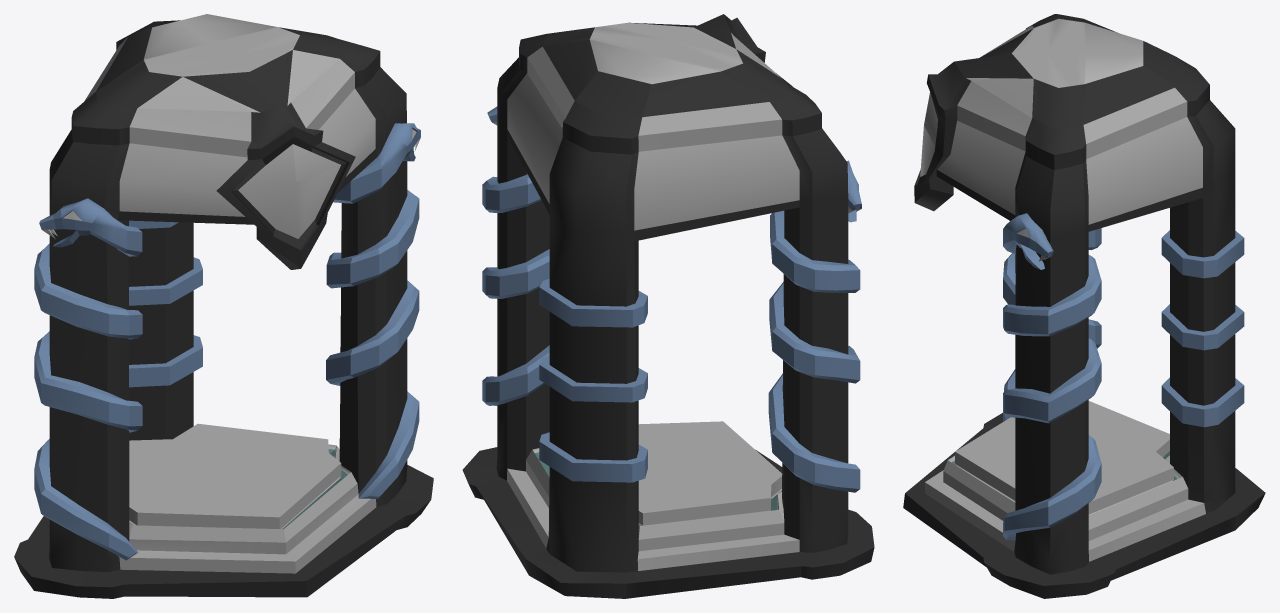
Rendered from portalsito.fbx.
3 views of the same model, side by side, from view 1: azimuth 30°, elevation 25°; view 2: azimuth 150°, elevation 25°; view 3: azimuth 270°, elevation 25° (orthographic). The views are drawn at different scales.
Visible parts, largest first — view 1: pCylinder2; view 2: pCylinder2; view 3: pCylinder2.
Part boxes in pixels (left/top/right/bottom): pCylinder2: left=14, top=14, right=433, bottom=598; pCylinder2: left=462, top=14, right=874, bottom=598; pCylinder2: left=903, top=14, right=1265, bottom=598.
Size of the model in its own units: 8.33 by 9.56 by 6.91.
